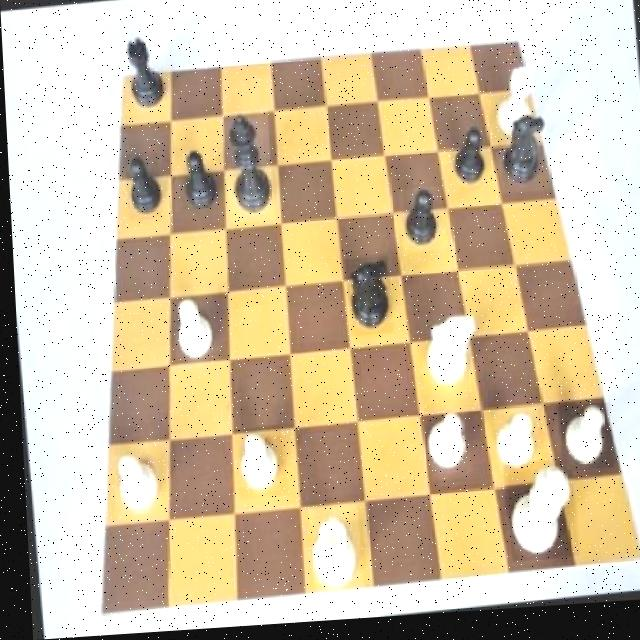black-bishop: (219, 114, 273, 227)
black-king: (495, 121, 549, 200), (342, 260, 390, 343)
black-knight: (397, 191, 445, 258), (173, 146, 218, 217), (448, 134, 487, 203), (122, 154, 161, 223)
black-queen: (114, 34, 165, 119)
white-bishop: (499, 465, 574, 569)
white-king: (414, 319, 473, 402)
white-knight: (553, 409, 610, 481), (229, 429, 282, 503), (166, 290, 215, 370), (418, 415, 467, 488), (106, 453, 157, 521), (489, 413, 538, 480)
white-queen: (301, 509, 357, 597), (486, 73, 539, 149)
